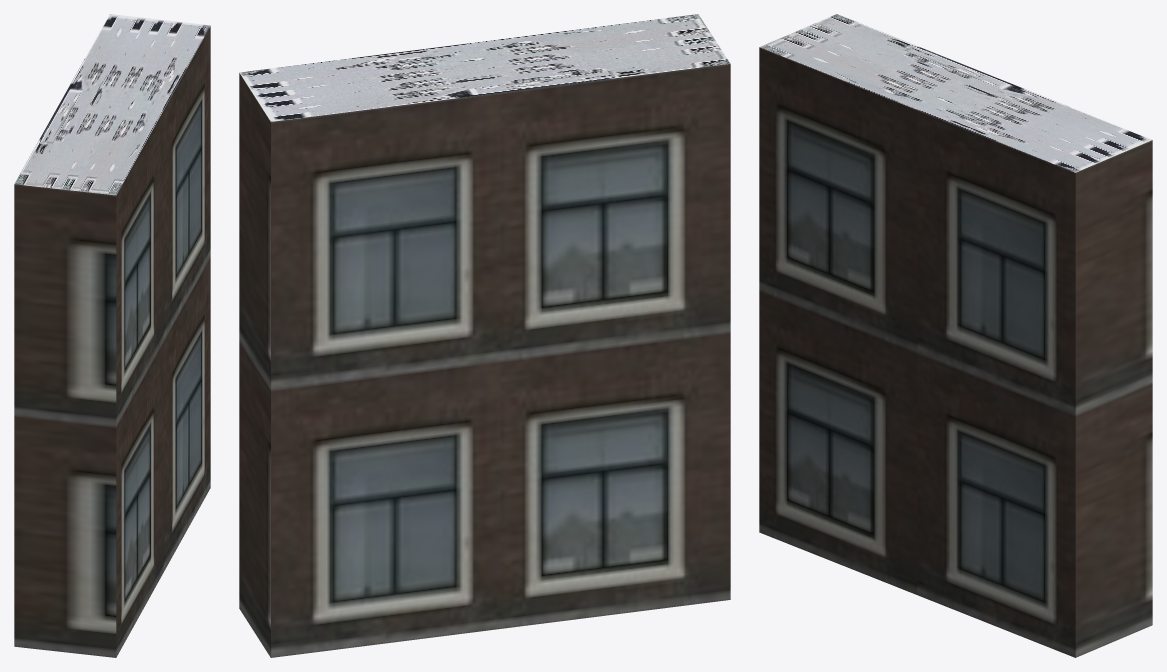
The model's file is ResTex__1419.fbx.
3 views of the same model, side by side, from view 1: azimuth 30°, elevation 25°; view 2: azimuth 150°, elevation 25°; view 3: azimuth 270°, elevation 25° (orthographic). The views are drawn at different scales.
Parts seen in each view (by area): view 1: CityEngineMaterial_16_m, CityEngineMaterial_15_m; view 2: CityEngineMaterial_16_m, CityEngineMaterial_15_m; view 3: CityEngineMaterial_16_m, CityEngineMaterial_15_m.
Boxes of the visible parts, bbox=[...] form: CityEngineMaterial_16_m: bbox=[14, 26, 210, 657]; CityEngineMaterial_15_m: bbox=[14, 14, 210, 195]; CityEngineMaterial_16_m: bbox=[239, 64, 730, 657]; CityEngineMaterial_15_m: bbox=[239, 14, 730, 121]; CityEngineMaterial_16_m: bbox=[759, 47, 1152, 657]; CityEngineMaterial_15_m: bbox=[759, 14, 1151, 172].
Bounding box in the file's own units: 4.21 × 6 × 4.41.
2 materials, 2 textured.
